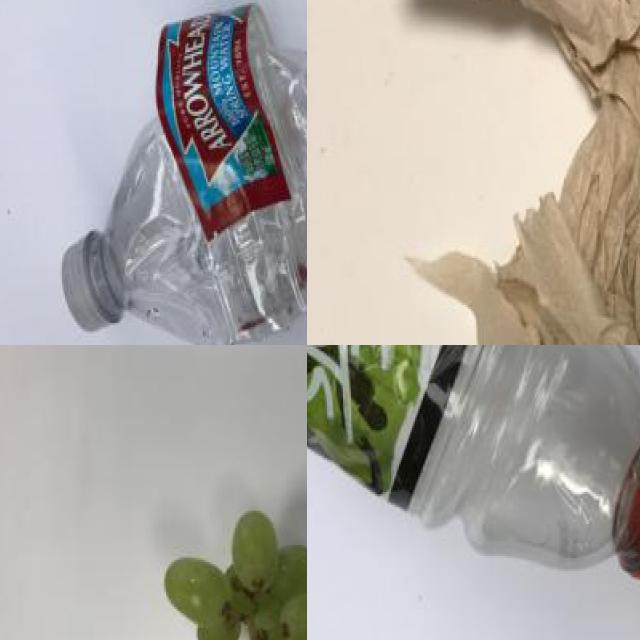compost: (163, 491, 307, 640)
plastic: (307, 345, 640, 606), (61, 0, 307, 335)
trash: (384, 0, 640, 345)
